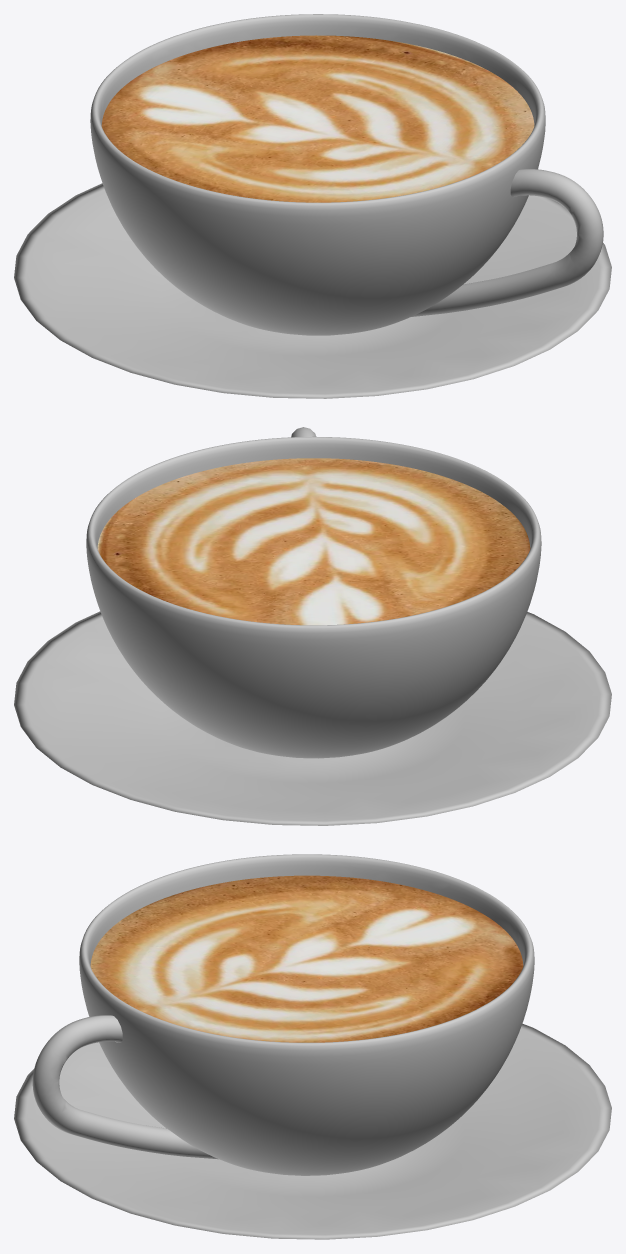
Rendered from coffee.glb.
3 renders of one model, top to bottom at view 1: azimuth 30°, elevation 25°; view 2: azimuth 150°, elevation 25°; view 3: azimuth 270°, elevation 25°, orthographic.
Parts seen in each view (by area): view 1: Sphere001_Material #28_0, Object001_Material #26_0; view 2: Sphere001_Material #28_0, Object001_Material #26_0; view 3: Sphere001_Material #28_0, Object001_Material #26_0.
Boxes of the visible parts, x1,y1,x2,y2 form: Sphere001_Material #28_0: [14, 14, 611, 398]; Object001_Material #26_0: [101, 35, 534, 202]; Sphere001_Material #28_0: [14, 427, 611, 825]; Object001_Material #26_0: [97, 458, 530, 625]; Sphere001_Material #28_0: [14, 854, 611, 1239]; Object001_Material #26_0: [90, 875, 523, 1042].
Size of the model in its own units: 105 by 37.99 by 105.
2 materials, 1 textured.
